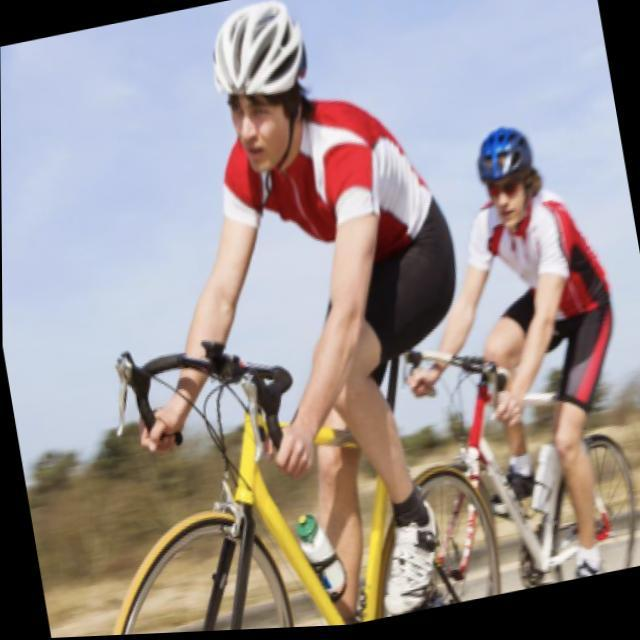Helmet: (203, 0, 324, 186)
